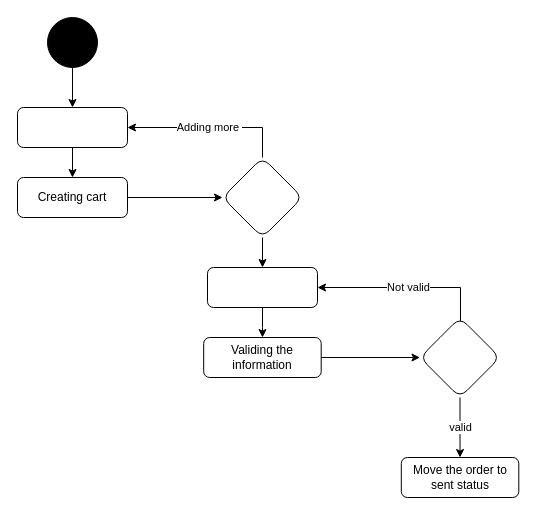
Some shapes in this 537 by 515 pixel diagram are drawn without their labels. Each missing label, with the centre of its shape:
Adding product: point (72, 127)
Creating order: point (262, 287)
